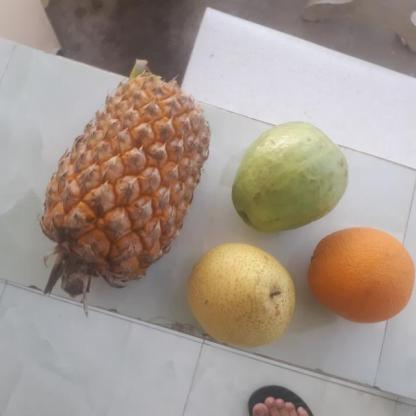guava: (231, 124, 347, 228)
orange: (306, 225, 416, 324)
pear: (180, 244, 297, 348)
pineapple: (45, 78, 201, 284)
